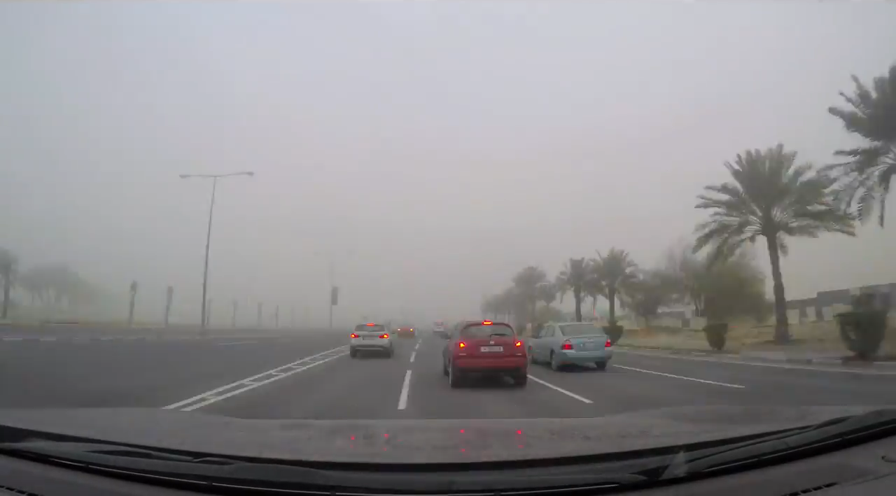car: (441, 318, 531, 389), (528, 321, 617, 372), (345, 321, 393, 358), (427, 317, 449, 335), (394, 324, 415, 340)
